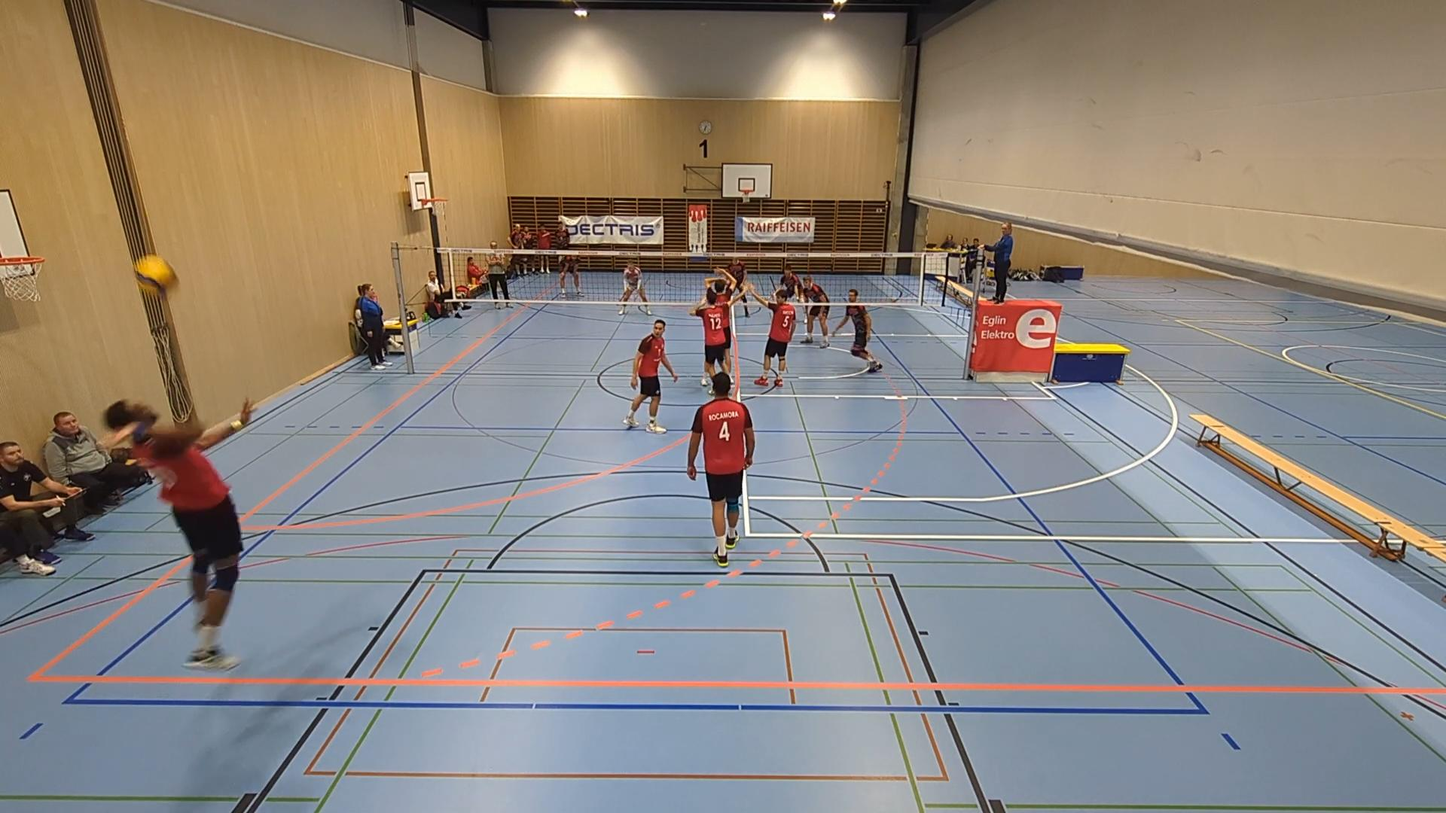Player: (687, 373, 755, 566), (624, 319, 678, 434), (691, 284, 731, 385), (834, 289, 882, 372), (755, 288, 796, 385), (801, 275, 829, 347), (619, 260, 650, 315), (724, 258, 750, 316), (560, 254, 583, 298), (778, 265, 801, 300)
Serve: (100, 393, 254, 673)
ball: (135, 256, 180, 291)
